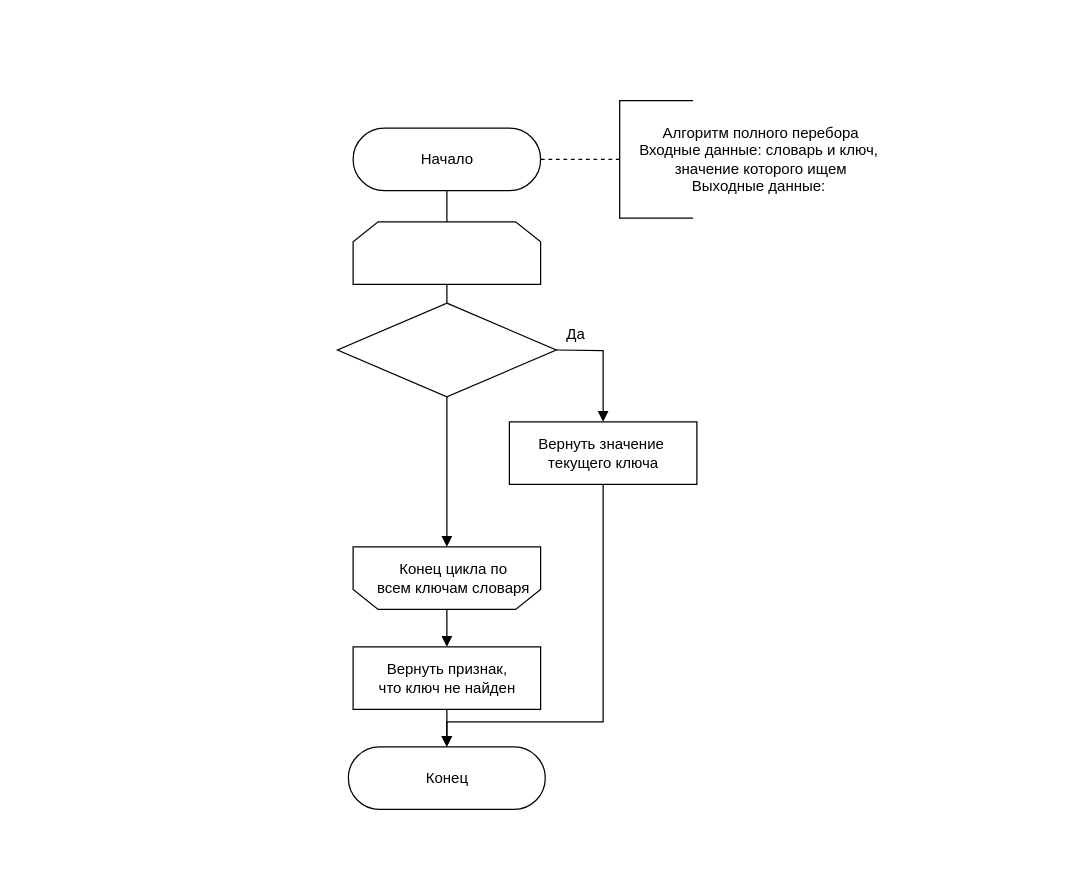
Some shapes in this 1068 by 880 pixel diagram are drawn without their labels. Here are the shapes that lost their labels. From the top down, the centre of each, then its label:
At point (446, 252): "Цикл по всем ключам словаря".
At point (446, 349): "Текущий ключ равен исходному".
